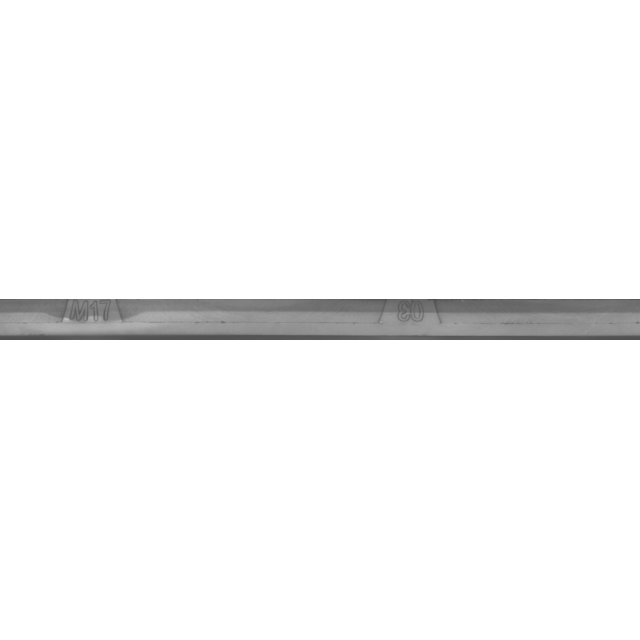mohao: (8, 270, 208, 370)
xuehao: (315, 270, 515, 370)
